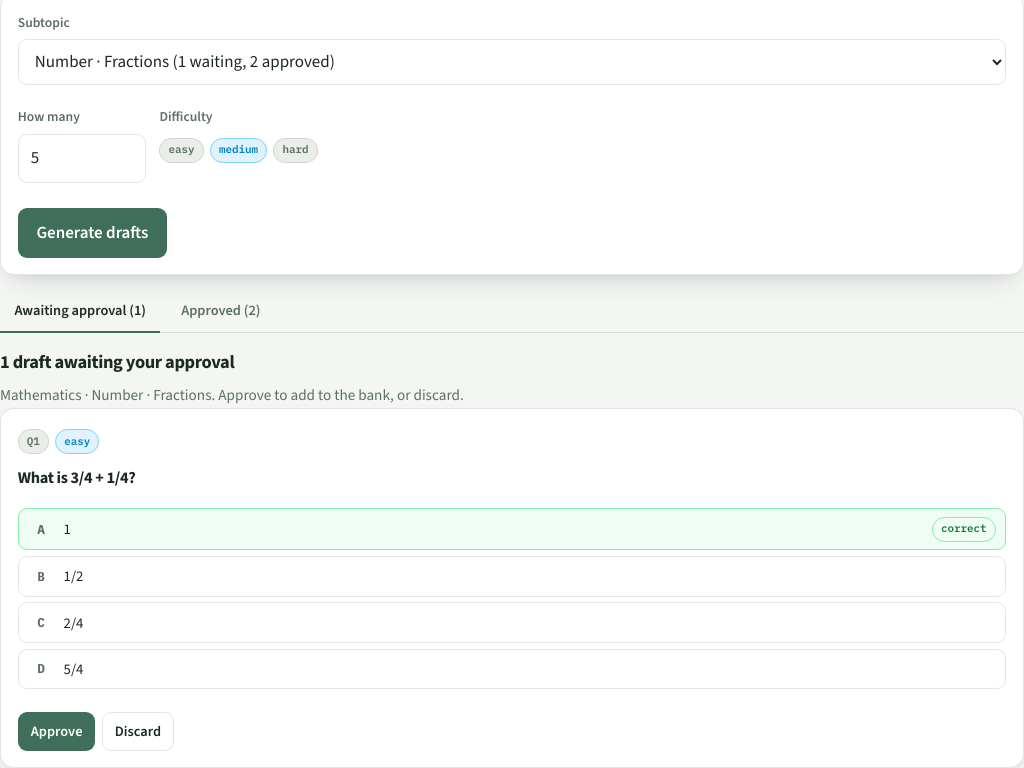
it: QuestionBankPage › moves an approved draft across so it is not lost from view
(page scrolled)
Expected: the heading "What is 3/4 + 1/4?" is shown, [18, 467, 136, 488]
Click the button "Approve".
click(57, 732)  # box [18, 712, 95, 751]
(page scrolled)
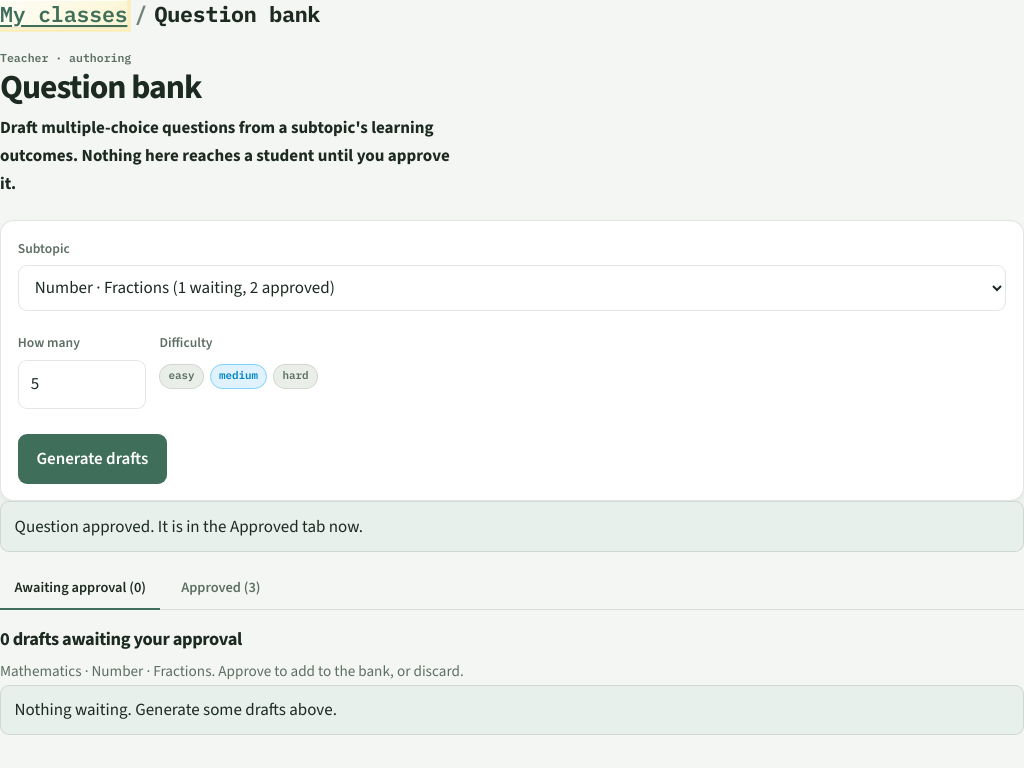
Now the tab "Awaiting approval (0)" is shown, box [0, 568, 160, 610]
Now the tab "Approved (3)" is shown, box [167, 568, 275, 610]
Now the text "Question approved. It is in the Approved tab now." is shown, box [0, 501, 1023, 552]
